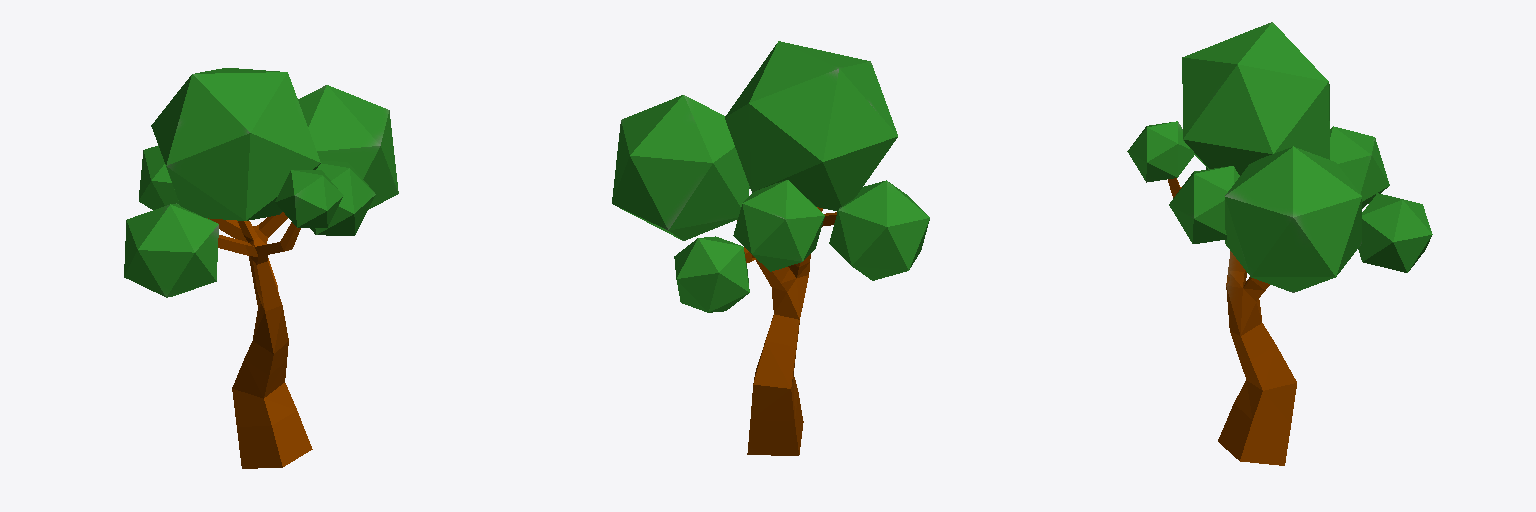
3 renders of one model, left to right at view 1: azimuth 30°, elevation 25°; view 2: azimuth 150°, elevation 25°; view 3: azimuth 270°, elevation 25°, orthographic.
Visible parts, largest first — view 1: Cube; view 2: Cube; view 3: Cube.
Part boxes in pixels (x1,y1,x2,y2): Cube: (124, 68, 398, 468); Cube: (612, 41, 929, 455); Cube: (1127, 22, 1432, 465).
Size of the model in its own units: 7.29 by 9.99 by 6.86.
1 materials, 1 textured.